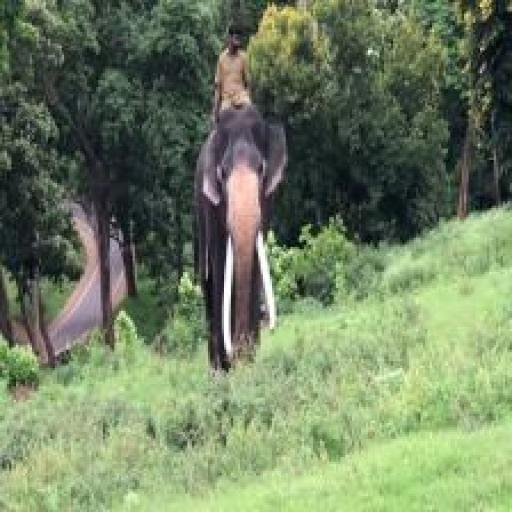Elephant: (183, 108, 292, 380)
